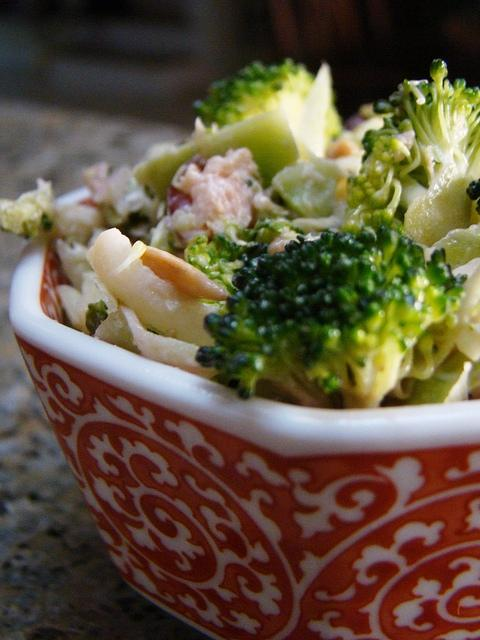broccoli: (196, 226, 473, 410), (347, 59, 479, 248), (134, 108, 301, 204), (194, 56, 344, 145), (184, 222, 303, 294), (272, 150, 344, 218)
